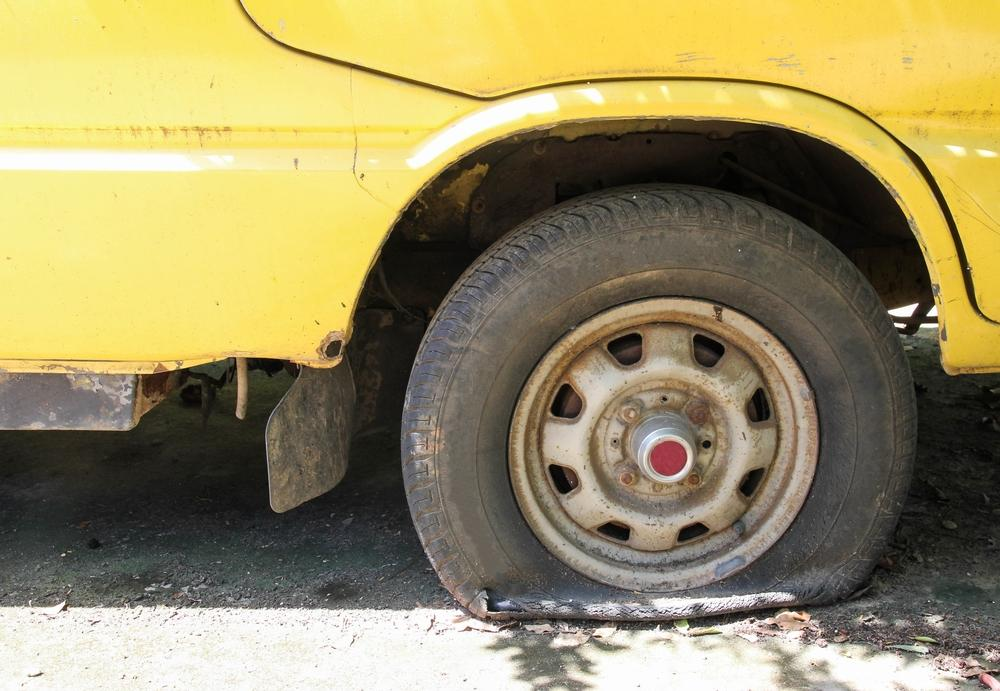tire flat: (401, 186, 918, 624)
